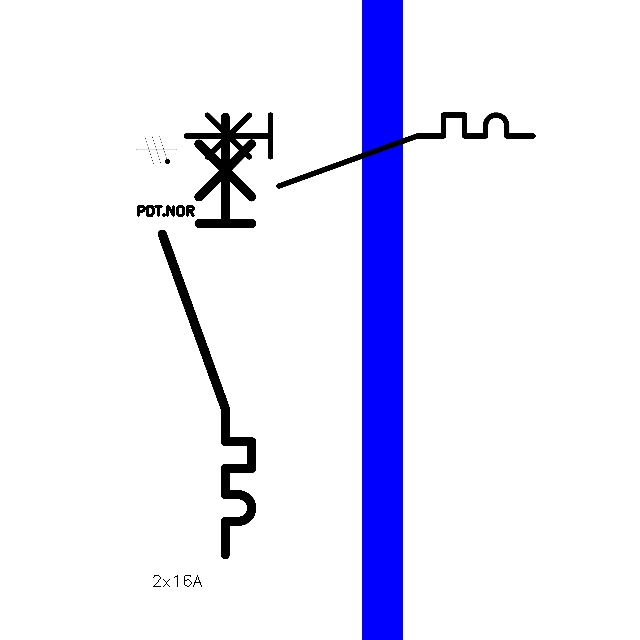interruptor_termomagnetico: (151, 106, 263, 566), (177, 106, 542, 195)
